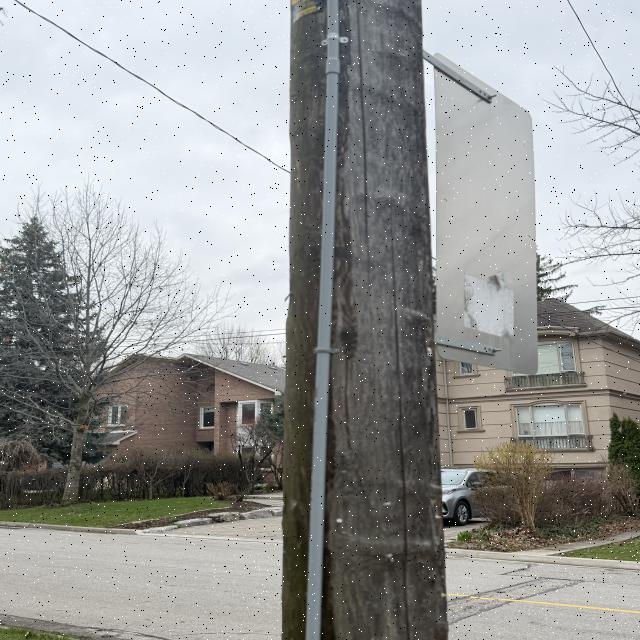Electrical Pole: (269, 0, 455, 639)
